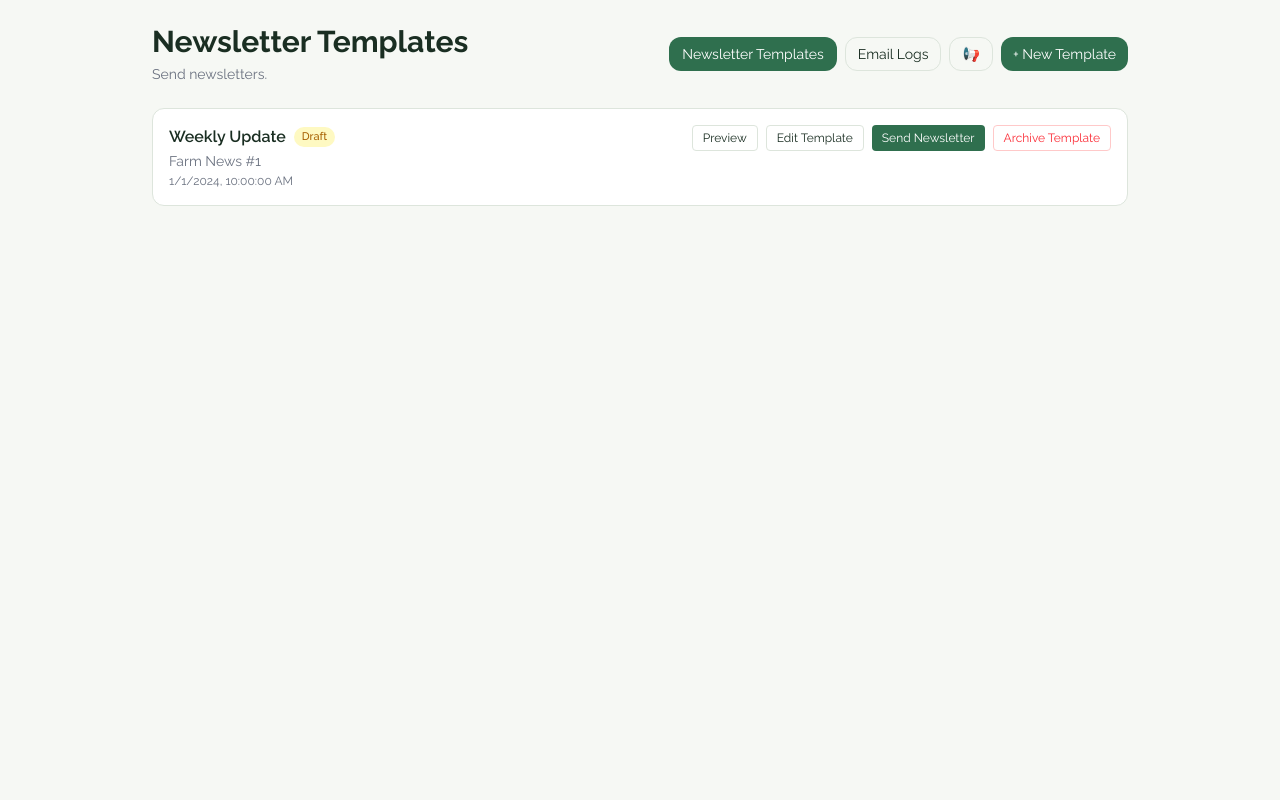
Test: NewsletterPage (template UI) › shows send result after successful send
Click the button "Send Newsletter": (928, 138) [872, 125, 984, 151]
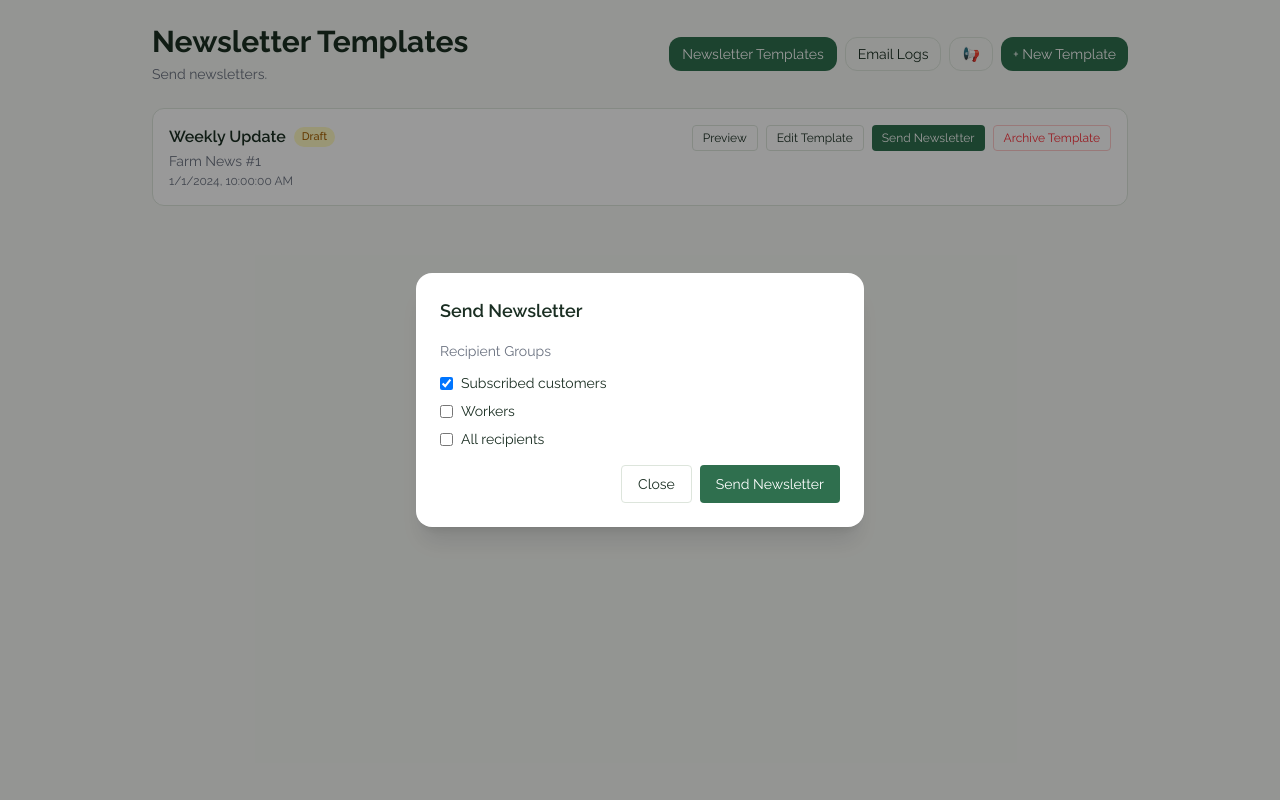
Expected: the element with test id "send-modal" is shown
Click the button with test id "send-modal-submit": (770, 484) [700, 465, 840, 503]
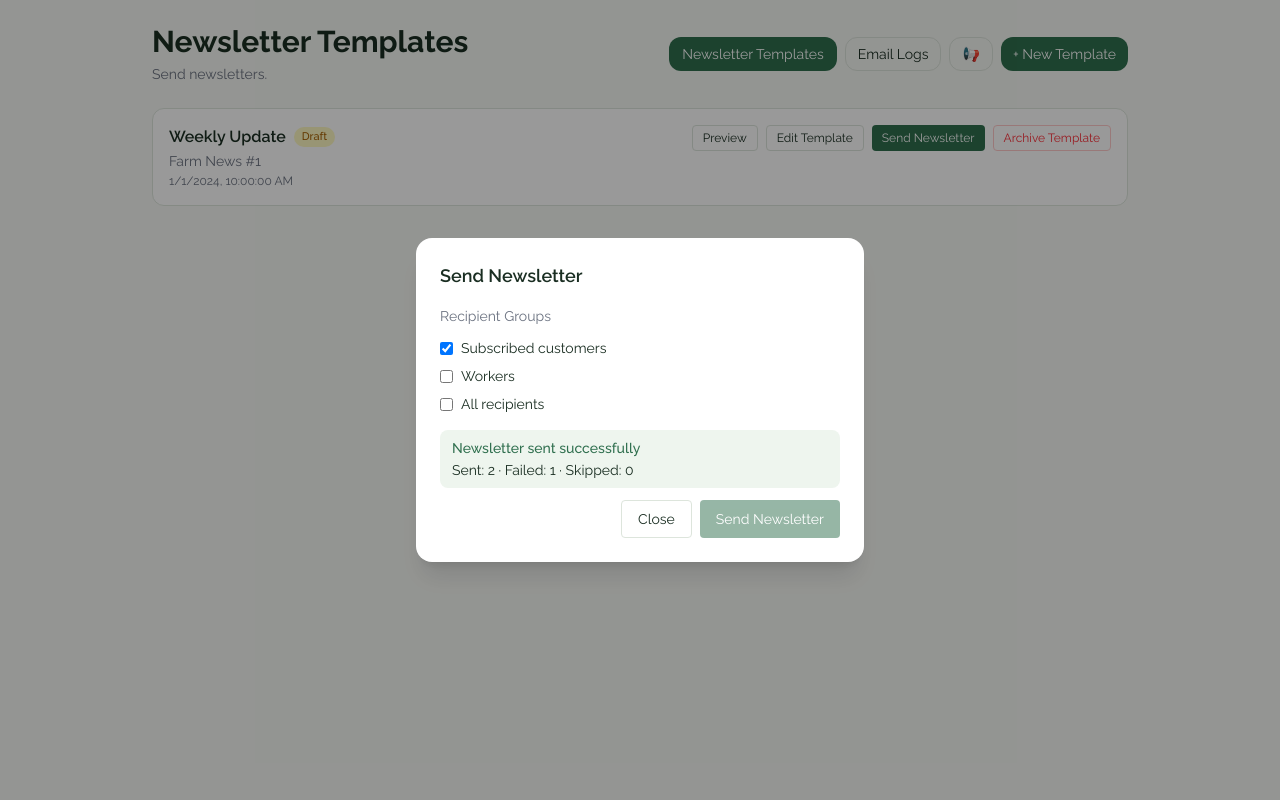
Expected: the element with test id "send-result" is shown, [440, 430, 840, 488]
Expected: the element with test id "send-result" shows "2", [488, 462, 495, 478]
